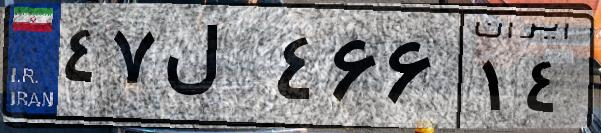1: (475, 38, 525, 113)
4: (270, 28, 330, 110), (57, 26, 110, 100), (525, 38, 570, 115)
6: (385, 28, 445, 110), (330, 28, 385, 110)
7: (110, 28, 158, 98)
ل: (158, 20, 270, 120)
